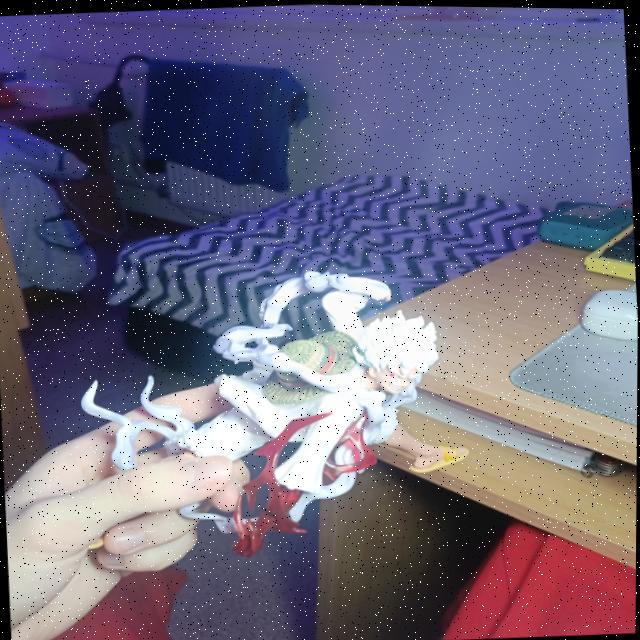luffy: (76, 256, 475, 566)
